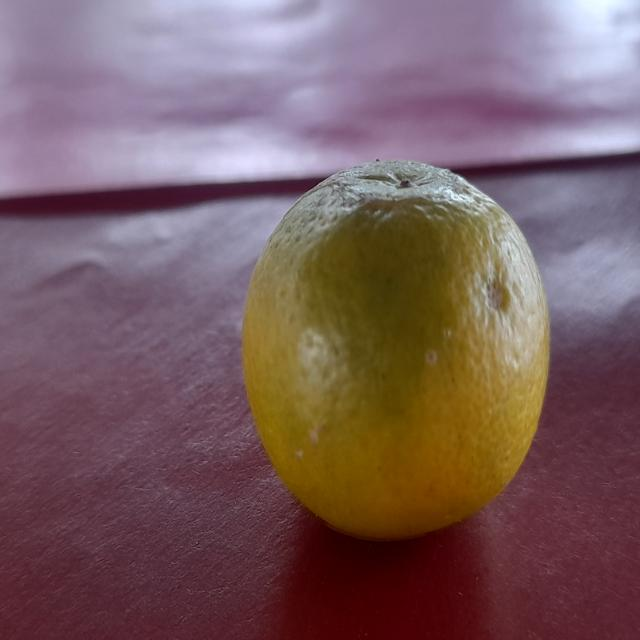greening: (231, 161, 553, 546)
